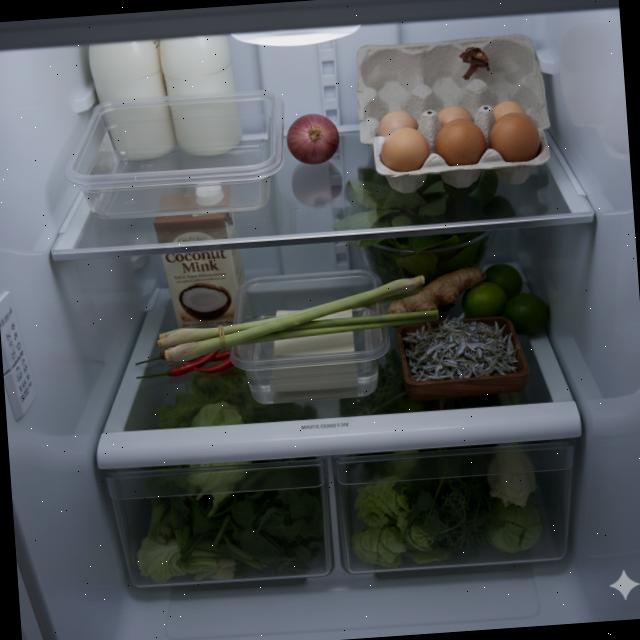anchovies: (402, 309, 518, 384)
cabbage: (487, 498, 546, 556)
chili: (134, 346, 232, 380)
egg: (353, 33, 554, 196)
ginger: (383, 266, 489, 316)
leafy_greens: (329, 155, 521, 290), (128, 456, 326, 586), (346, 445, 488, 570)
lemongrass: (152, 274, 440, 364)
lime: (458, 259, 552, 341)
onion: (285, 112, 341, 166)
tofu: (264, 304, 358, 402)
